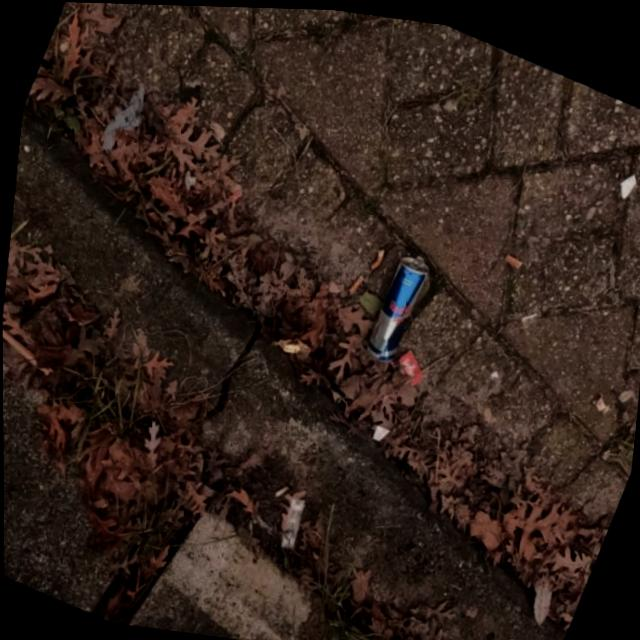Can-Metal: (362, 245, 432, 364)
Paper: (385, 342, 427, 385)
Plastic: (277, 493, 305, 549)
